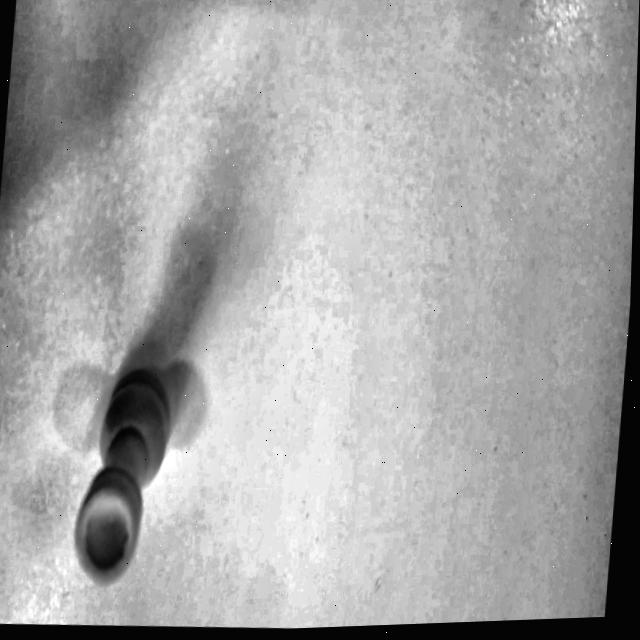white-rook: (36, 287, 218, 600)
